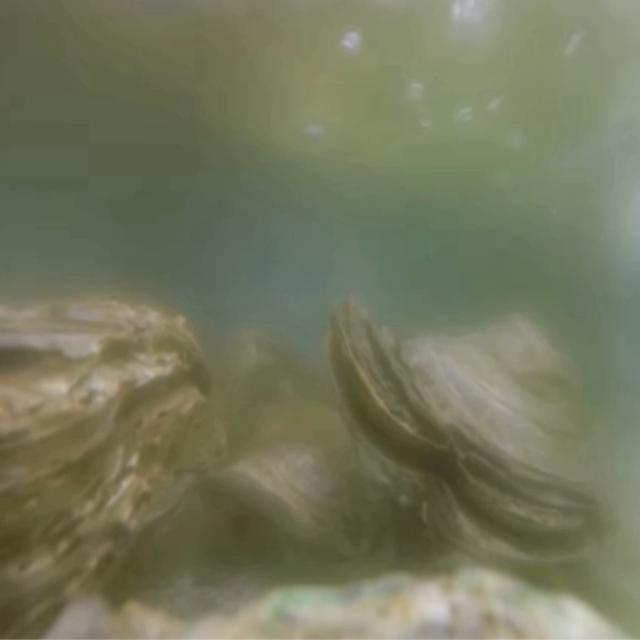Oyster-Closed: (0, 294, 228, 640)
Oyster-Indeterminate: (214, 400, 404, 567)
Oyster-Open: (326, 297, 634, 577)
